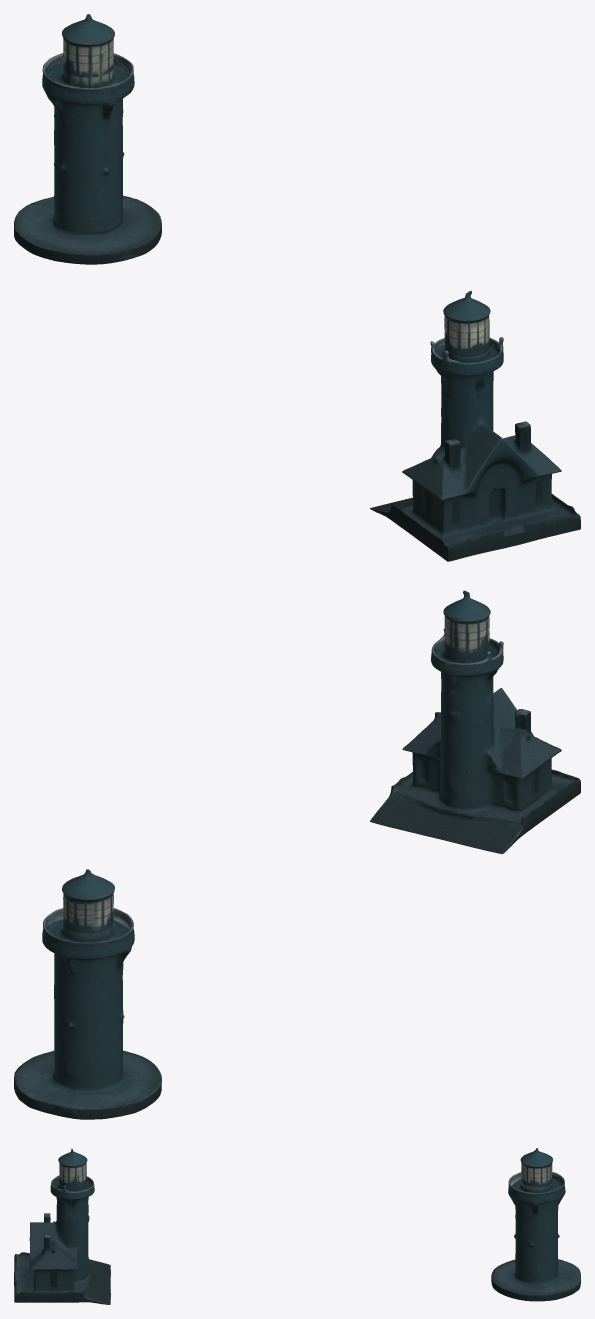
File: lighthouse_home.glb
3 views of the same model, one above another, from view 1: azimuth 30°, elevation 25°; view 2: azimuth 150°, elevation 25°; view 3: azimuth 270°, elevation 25° (orthographic). The views are drawn at different scales.
Bounding box in the file's own units: 0.3188 × 0.5079 × 1.9.
Materials: 1 (1 with a texture image).
